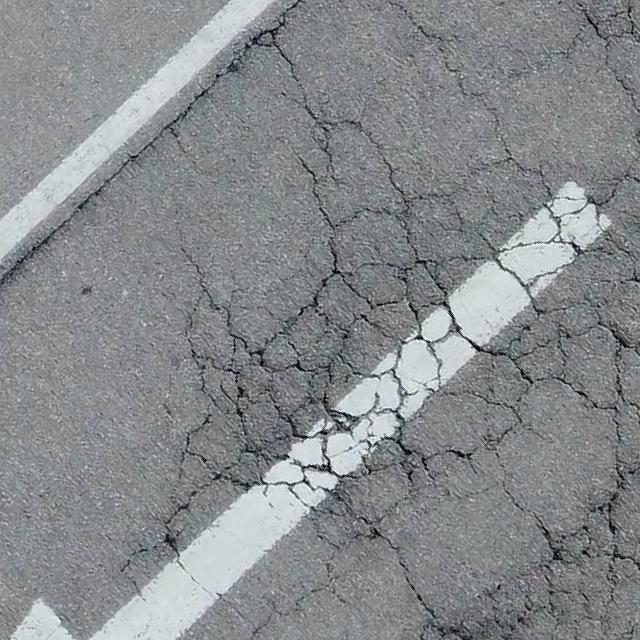GRIETA: (0, 0, 302, 285), (389, 0, 468, 95), (272, 39, 320, 123)
PIEL DE COCODRILO: (115, 0, 639, 639)
